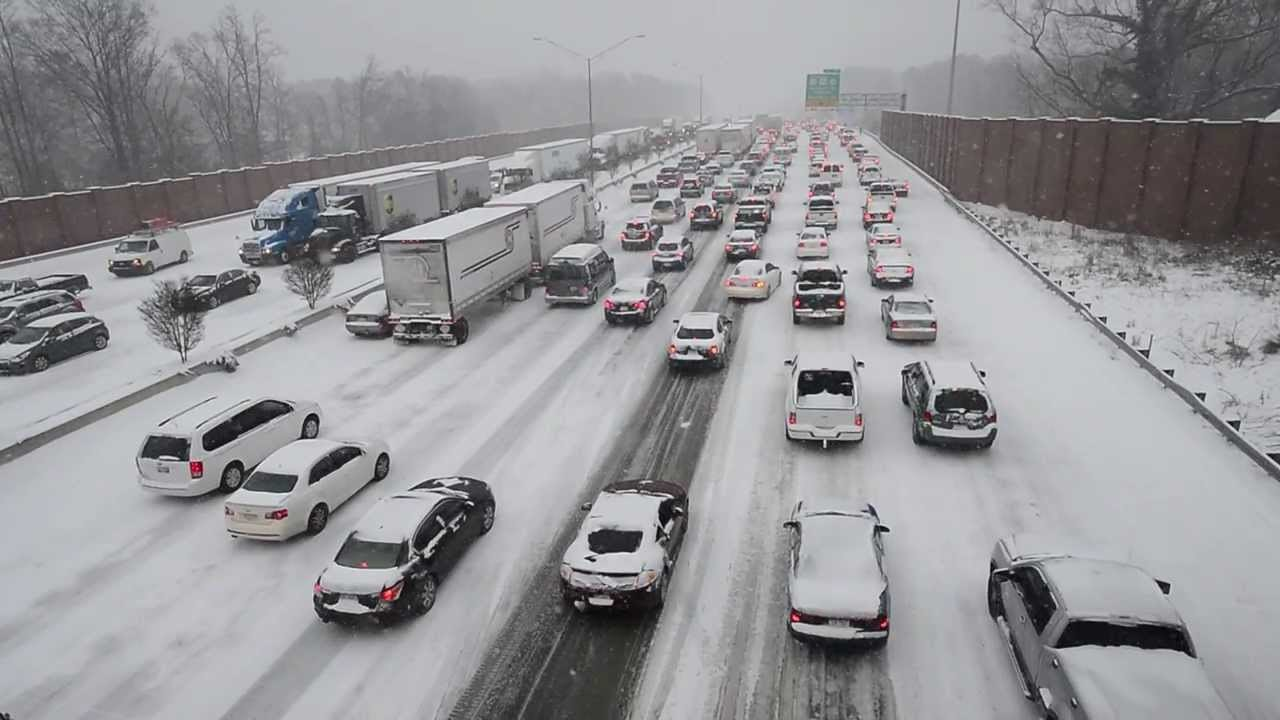car: (988, 546, 1228, 719), (307, 475, 498, 628), (131, 392, 319, 500), (219, 432, 394, 544), (555, 477, 693, 615), (780, 490, 895, 644), (902, 362, 999, 450), (10, 308, 115, 375), (784, 367, 864, 446), (107, 227, 192, 277), (666, 310, 731, 369), (6, 284, 82, 332), (5, 265, 92, 306), (175, 269, 256, 312), (548, 244, 612, 297), (791, 271, 848, 325), (881, 296, 937, 345), (600, 283, 663, 326), (721, 259, 780, 301), (341, 291, 398, 334), (866, 244, 910, 279), (650, 231, 691, 267), (617, 213, 654, 246), (803, 194, 836, 225), (794, 226, 828, 254), (652, 193, 685, 220), (734, 208, 766, 233), (690, 197, 721, 220), (865, 222, 898, 243), (818, 160, 845, 184), (727, 231, 757, 250), (886, 176, 913, 197), (860, 201, 890, 219), (858, 165, 881, 186), (630, 176, 655, 195), (712, 185, 738, 202), (715, 150, 734, 166), (772, 148, 792, 163), (679, 153, 698, 168)
truck: (381, 180, 607, 348), (236, 194, 320, 269), (313, 188, 371, 265), (503, 151, 587, 182), (589, 130, 646, 161), (696, 126, 720, 158), (725, 126, 747, 155)
